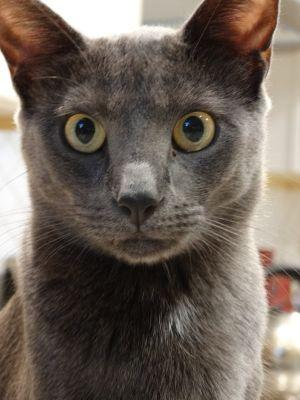rblue: (1, 1, 295, 280)
